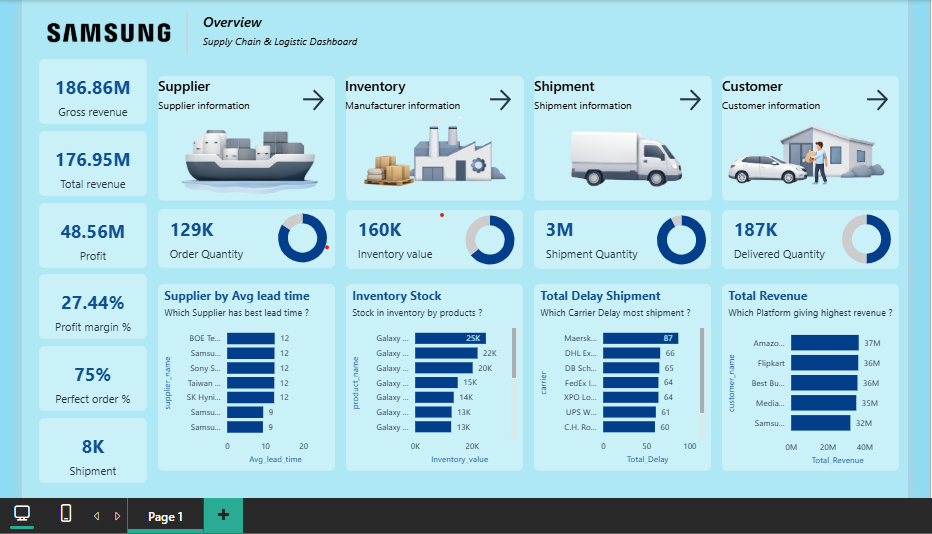

The page's visual inventory and layout, read from the dashboard file:
{"tool":"powerbi","page":{"name":"Page 1","canvas":[1280,720],"ordinal":0},"visuals":[{"type":"shape","box":[467.9,109.9,257.3,180],"z":0},{"type":"shape","box":[740.2,109.9,257.3,180],"z":1000},{"type":"shape","box":[1012.5,109.9,255.9,180],"z":2000},{"type":"shape","box":[197.1,109.9,255.9,180],"z":3000},{"type":"image","box":[203.9,150.4,241.4,144.6],"z":4000},{"type":"image","box":[1006.3,131.6,267.5,177.8],"z":5000},{"type":"image","box":[730.1,159,281.9,127.2],"z":6000},{"type":"image","box":[467,133,245.8,161.9],"z":7000},{"type":"actionButton","box":[671.3,124.3,52,40.5],"z":8000},{"type":"actionButton","box":[946,124.3,52,40.5],"z":9000},{"type":"actionButton","box":[1216.4,124.3,52,40.5],"z":10000},{"type":"actionButton","box":[401,124.3,52,40.5],"z":11000},{"type":"shape","title":"Supplier","box":[197.1,109.9,140.2,68],"z":12000},{"type":"shape","title":"Inventory","box":[467.5,109.9,172,68],"z":13000},{"type":"shape","title":"Shipment","box":[740.7,109.9,153.3,68],"z":14000},{"type":"shape","title":"Customer","box":[1012.5,109.9,151.8,68],"z":15000},{"type":"shape","title":"Overview","box":[262,16.8,236.9,67.2],"z":16000},{"type":"shape","box":[196.5,16.8,84,58.8],"z":17000},{"type":"image","box":[16.8,16.8,208.3,58.8],"z":18000},{"type":"cardVisual","fields":{"Data":["Measure table.Total_Revenue"]},"box":[24.6,189.1,156,94],"z":19000},{"type":"cardVisual","fields":{"Data":["Measure table.Profit"]},"box":[24.6,292.9,156,94],"z":20000},{"type":"cardVisual","fields":{"Data":["Measure table.Profit margin %"]},"box":[24.6,396.7,156,94],"z":21000},{"type":"cardVisual","fields":{"Data":["Measure table.Perfect_order"]},"box":[24.6,500.5,156,94],"z":22000},{"type":"cardVisual","fields":{"Data":["Sum(fact_sales.gross_revenue)"]},"box":[24.6,85.3,156,94],"z":23000},{"type":"cardVisual","fields":{"Data":["Measure table.Total _shipment"]},"box":[24.6,604.3,156,94],"z":24000},{"type":"shape","box":[196.6,302.2,255.9,85.3],"z":25000},{"type":"shape","box":[468.4,303.6,255.9,85.3],"z":26000},{"type":"shape","box":[740.2,303.6,255.9,85.3],"z":27000},{"type":"shape","box":[1012,303.6,255.9,85.3],"z":28000},{"type":"cardVisual","fields":{"Data":["Measure table.Order_Qty"]},"box":[196.6,294.9,150.4,94],"z":29000},{"type":"cardVisual","fields":{"Data":["Measure table.Inventory_value"]},"box":[468.4,294.9,150.4,92.5],"z":30000},{"type":"cardVisual","fields":{"Data":["Measure table.Total_shipment_Quantity"]},"box":[740.2,294.9,183.6,92.5],"z":31000},{"type":"cardVisual","fields":{"Data":["Measure table.Total_Delivered_Quantity"]},"box":[1012,294.9,183.6,92.5],"z":32000},{"type":"clusteredBarChart","title":"Supplier by Avg lead time","fields":{"Category":["dim_supplier.supplier_name"],"Y":["Measure table.Avg_lead_time"]},"box":[196.6,410.6,255.9,270],"z":33000},{"type":"clusteredBarChart","title":"Inventory Stock","fields":{"Y":["Measure table.Inventory_value"],"Category":["dim_product.product_name"]},"box":[468.4,410.6,255.9,270],"z":34000},{"type":"clusteredBarChart","title":"Total Delay Shipment","fields":{"Y":["Measure table.Total_Delay"],"Category":["fact_shipment.carrier"]},"box":[740.2,410.6,255.9,270],"z":35000},{"type":"clusteredBarChart","title":"Total Revenue","fields":{"Y":["Measure table.Total_Revenue"],"Category":["dim_customer.customer_name"]},"box":[1012,410.6,255.9,270.4],"z":36000},{"type":"donutChart","fields":{"Y":["Measure table.Order_Quantity","Measure table.Defect_rate"]},"box":[352.8,294.9,105.5,98.3],"z":37000},{"type":"donutChart","fields":{"Y":["Measure table.Inventory_value","Measure table.Safety_stock"]},"box":[623.1,297.8,107,98.3],"z":38000},{"type":"donutChart","fields":{"Y":["Measure table.Total _shipment","Measure table.Total_Delay"]},"box":[900.7,297.8,105.5,98.3],"z":39000},{"type":"donutChart","fields":{"Y":["Measure table.Total_Delivered_Quantity","Measure table.Measure"]},"box":[1168.2,296.4,105.5,98.3],"z":40000}]}

Visuals, with their boxes on the page's 1280x720 design canvas (x1, y1, x2, y2). These are canvas units, not pixel positions in the 932x534 screenshot, which may show the page scaled, cropped or inside an application window:
shape: 468, 110, 725, 290
shape: 740, 110, 998, 290
shape: 1012, 110, 1268, 290
shape: 197, 110, 453, 290
image: 204, 150, 445, 295
image: 1006, 132, 1274, 309
image: 730, 159, 1012, 286
image: 467, 133, 713, 295
actionButton: 671, 124, 723, 165
actionButton: 946, 124, 998, 165
actionButton: 1216, 124, 1268, 165
actionButton: 401, 124, 453, 165
"Supplier" shape: 197, 110, 337, 178
"Inventory" shape: 468, 110, 640, 178
"Shipment" shape: 741, 110, 894, 178
"Customer" shape: 1012, 110, 1164, 178
"Overview" shape: 262, 17, 499, 84
shape: 196, 17, 280, 76
image: 17, 17, 225, 76
cardVisual - Measure table.Total_Revenue: 25, 189, 181, 283
cardVisual - Measure table.Profit: 25, 293, 181, 387
cardVisual - Measure table.Profit margin %: 25, 397, 181, 491
cardVisual - Measure table.Perfect_order: 25, 500, 181, 594
cardVisual - Sum(fact_sales.gross_revenue): 25, 85, 181, 179
cardVisual - Measure table.Total _shipment: 25, 604, 181, 698
shape: 197, 302, 452, 388
shape: 468, 304, 724, 389
shape: 740, 304, 996, 389
shape: 1012, 304, 1268, 389
cardVisual - Measure table.Order_Qty: 197, 295, 347, 389
cardVisual - Measure table.Inventory_value: 468, 295, 619, 387
cardVisual - Measure table.Total_shipment_Quantity: 740, 295, 924, 387
cardVisual - Measure table.Total_Delivered_Quantity: 1012, 295, 1196, 387
"Supplier by Avg lead time" clusteredBarChart: 197, 411, 452, 681
"Inventory Stock" clusteredBarChart: 468, 411, 724, 681
"Total Delay Shipment" clusteredBarChart: 740, 411, 996, 681
"Total Revenue" clusteredBarChart: 1012, 411, 1268, 681
donutChart - Measure table.Order_Quantity x Measure table.Defect_rate: 353, 295, 458, 393
donutChart - Measure table.Inventory_value x Measure table.Safety_stock: 623, 298, 730, 396
donutChart - Measure table.Total _shipment x Measure table.Total_Delay: 901, 298, 1006, 396
donutChart - Measure table.Total_Delivered_Quantity x Measure table.Measure: 1168, 296, 1274, 395
